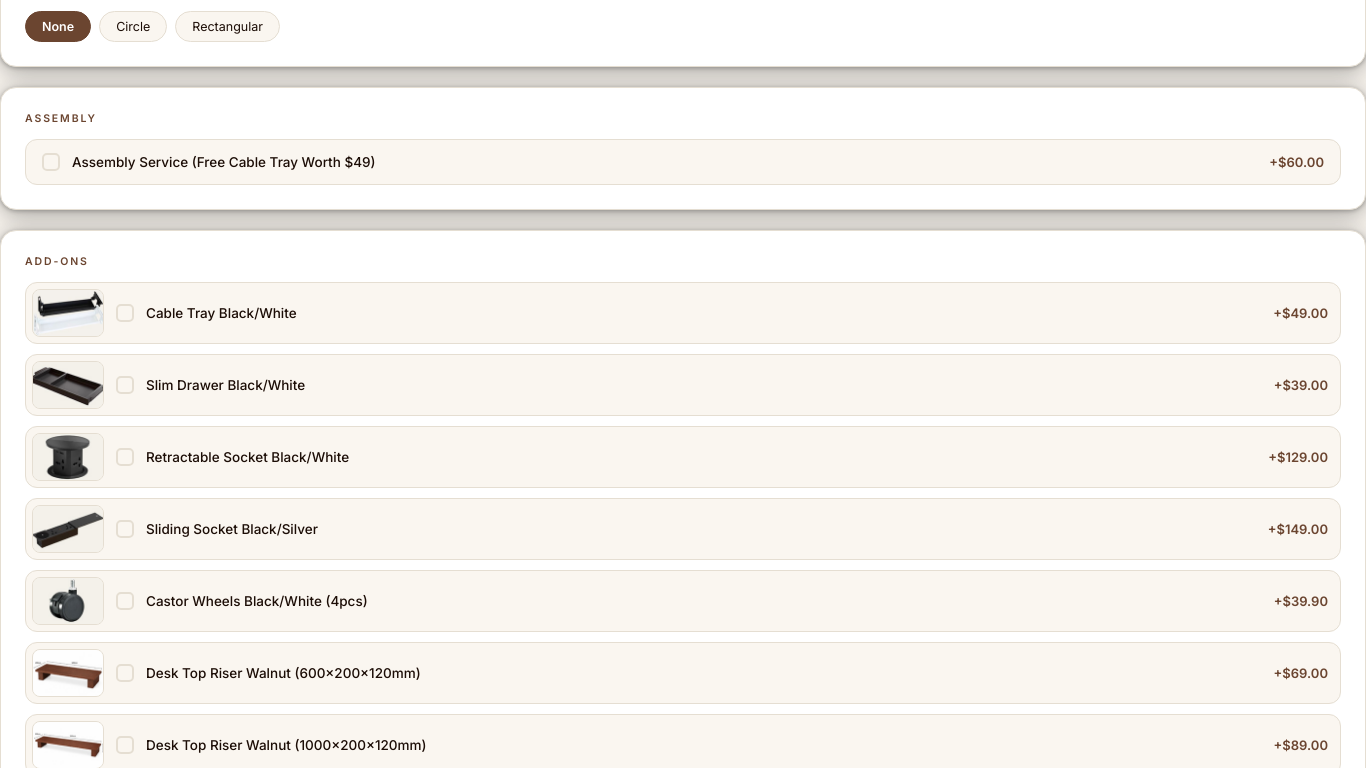
RectCalculator — accessories add to total › adding drawer increases total by $39.00
The width and height of the screenshot is (1366, 768).
(page scrolled)
Note: Default total: $594.60
Click the text "Slim Drawer Black/White": (169, 385) [32,361,305,409]
(page scrolled)
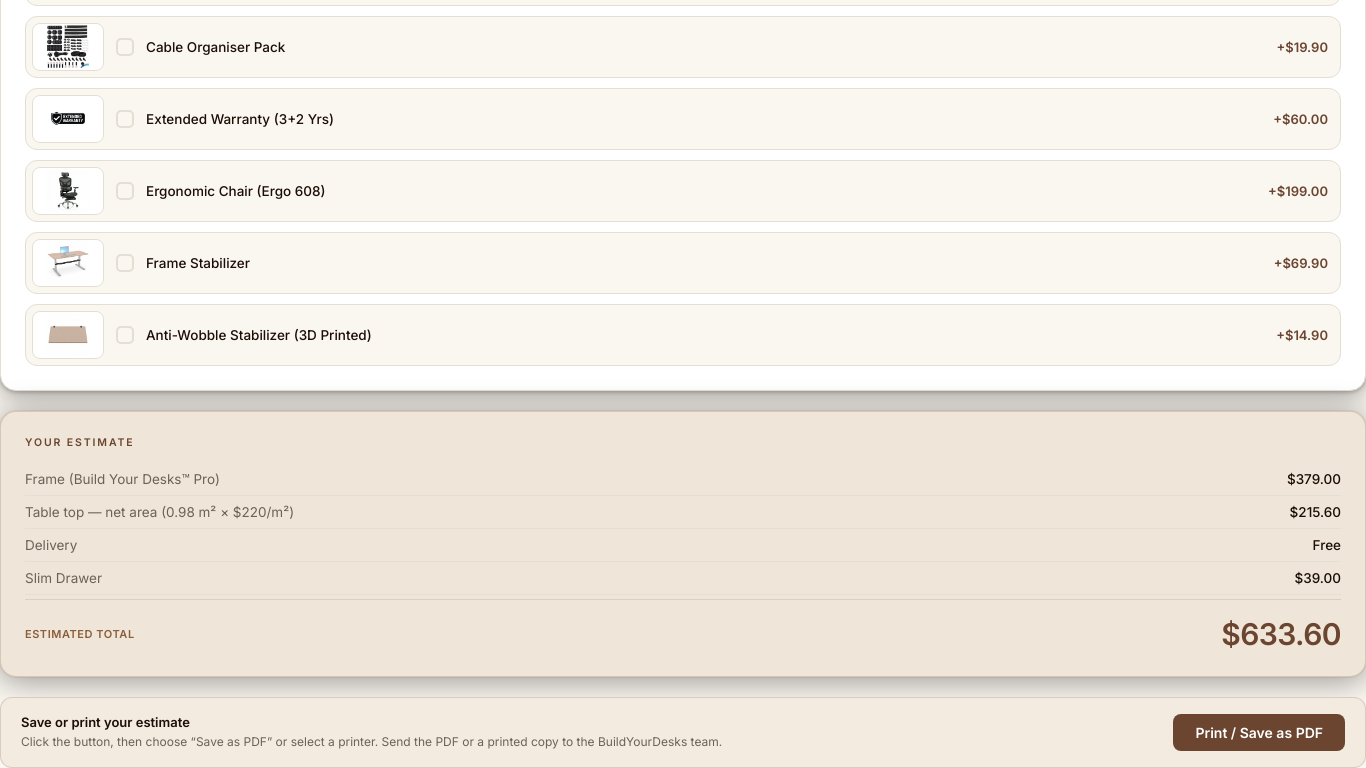
Check: the text "$633.60" is shown, box [1221,616,1341,652]
